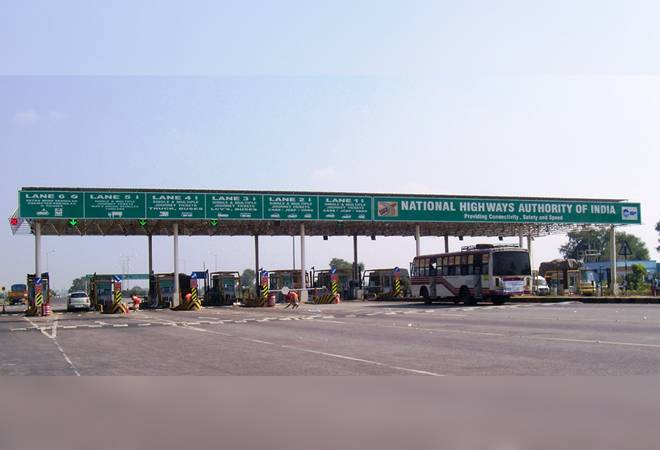toll plaza: (13, 173, 420, 311)
